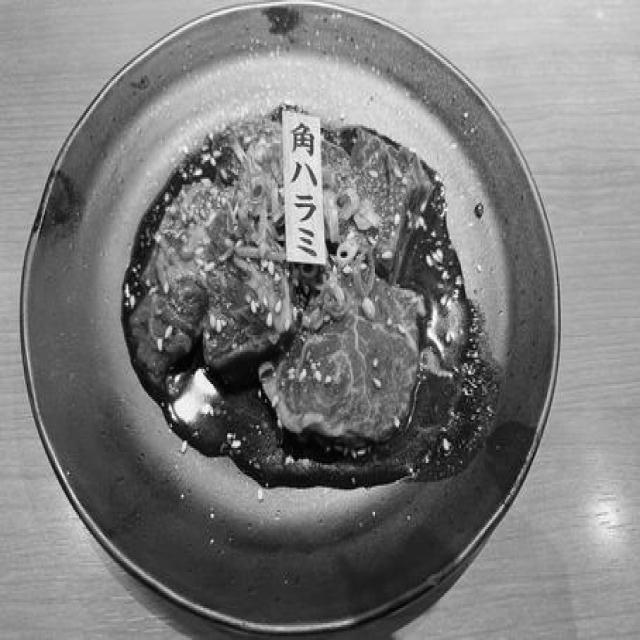NG raw beef,: (249, 244, 437, 451), (315, 118, 450, 296), (195, 219, 308, 381)
